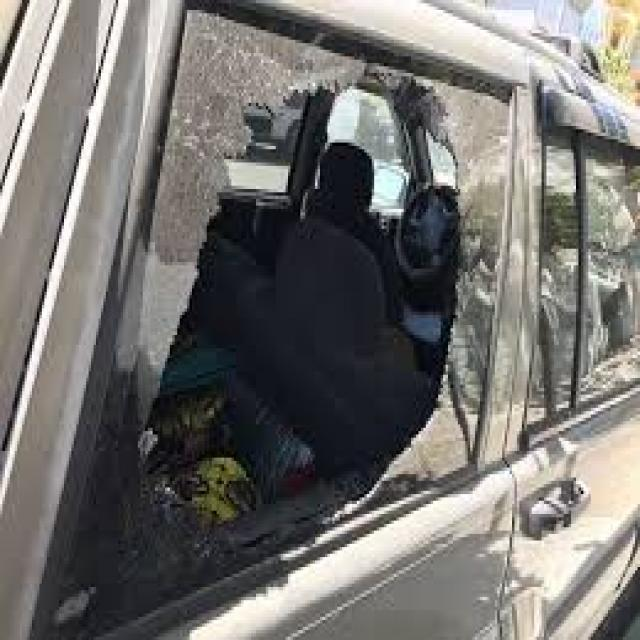damaged-window: (72, 0, 526, 635)
